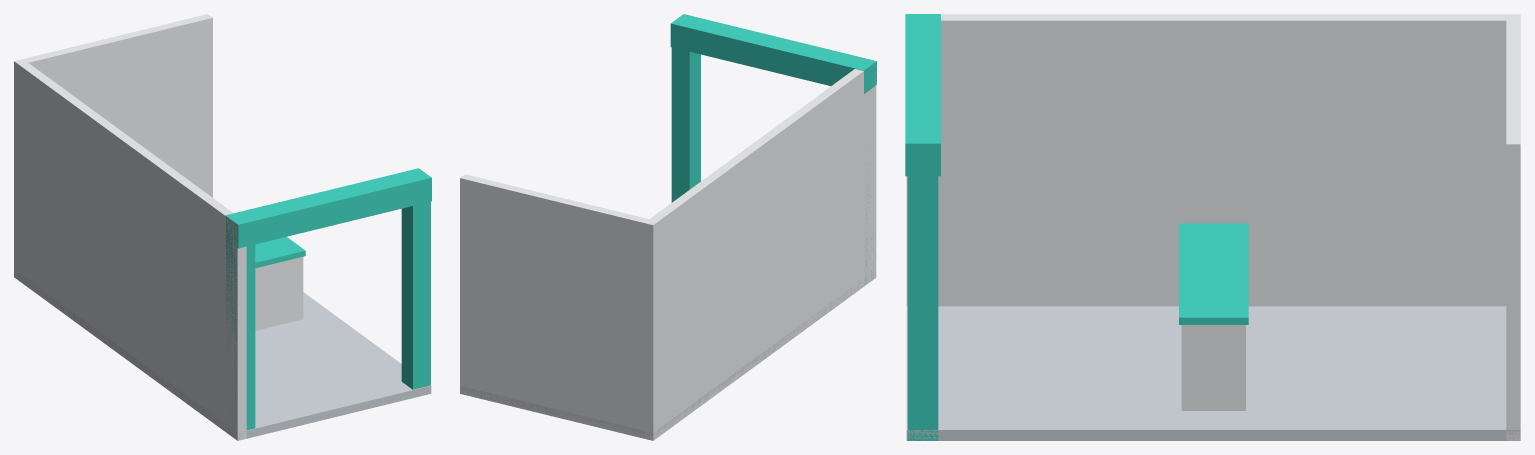
The picture shows the model from 3 angles, left to right: view 1: azimuth 30°, elevation 25°; view 2: azimuth 150°, elevation 25°; view 3: azimuth 270°, elevation 25°; orthographic projection. The views are drawn at different scales.
Parts seen in each view (by area): view 1: Exhibition Booth Concept; view 2: Exhibition Booth Concept; view 3: Exhibition Booth Concept.
Part boxes in pixels (x1,y1,x2,y2): Exhibition Booth Concept: (14,14,431,440); Exhibition Booth Concept: (460,14,876,440); Exhibition Booth Concept: (905,14,1520,440).
Bounding box in the file's own units: 3 × 3.2 × 6.02.
